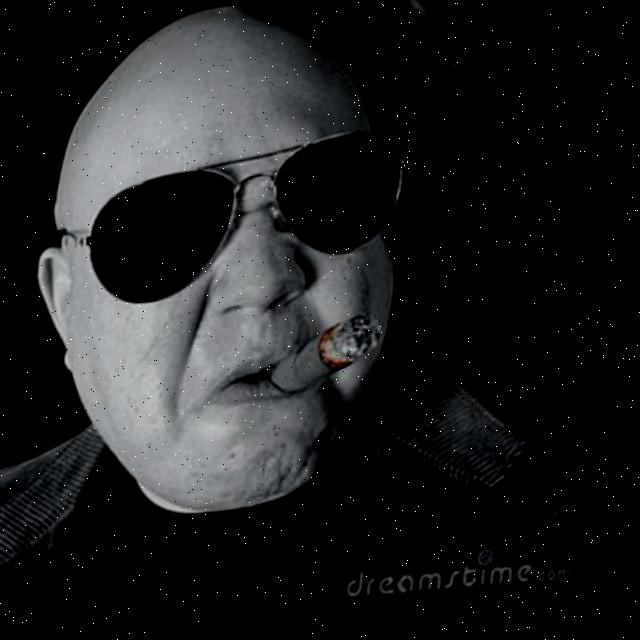cigarette: (274, 319, 391, 406)
